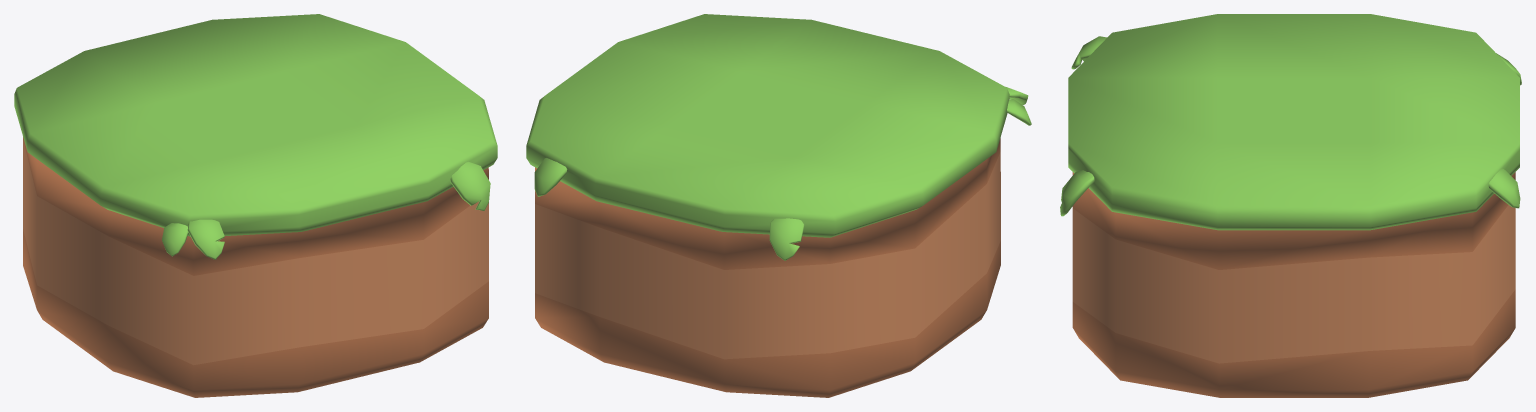
Rendered from platform_02.glb.
The picture shows the model from 3 angles, left to right: view 1: azimuth 30°, elevation 25°; view 2: azimuth 150°, elevation 25°; view 3: azimuth 270°, elevation 25°; orthographic projection. The views are drawn at different scales.
Parts seen in each view (by area): view 1: platform 01_toon_material_0.021; view 2: platform 01_toon_material_0.021; view 3: platform 01_toon_material_0.021.
Boxes of the visible parts, left/top/right/bottom form: platform 01_toon_material_0.021: left=14, top=14, right=497, bottom=397; platform 01_toon_material_0.021: left=526, top=14, right=1031, bottom=397; platform 01_toon_material_0.021: left=1060, top=14, right=1521, bottom=397.
Size of the model in its own units: 2.09 by 1 by 2.08.
